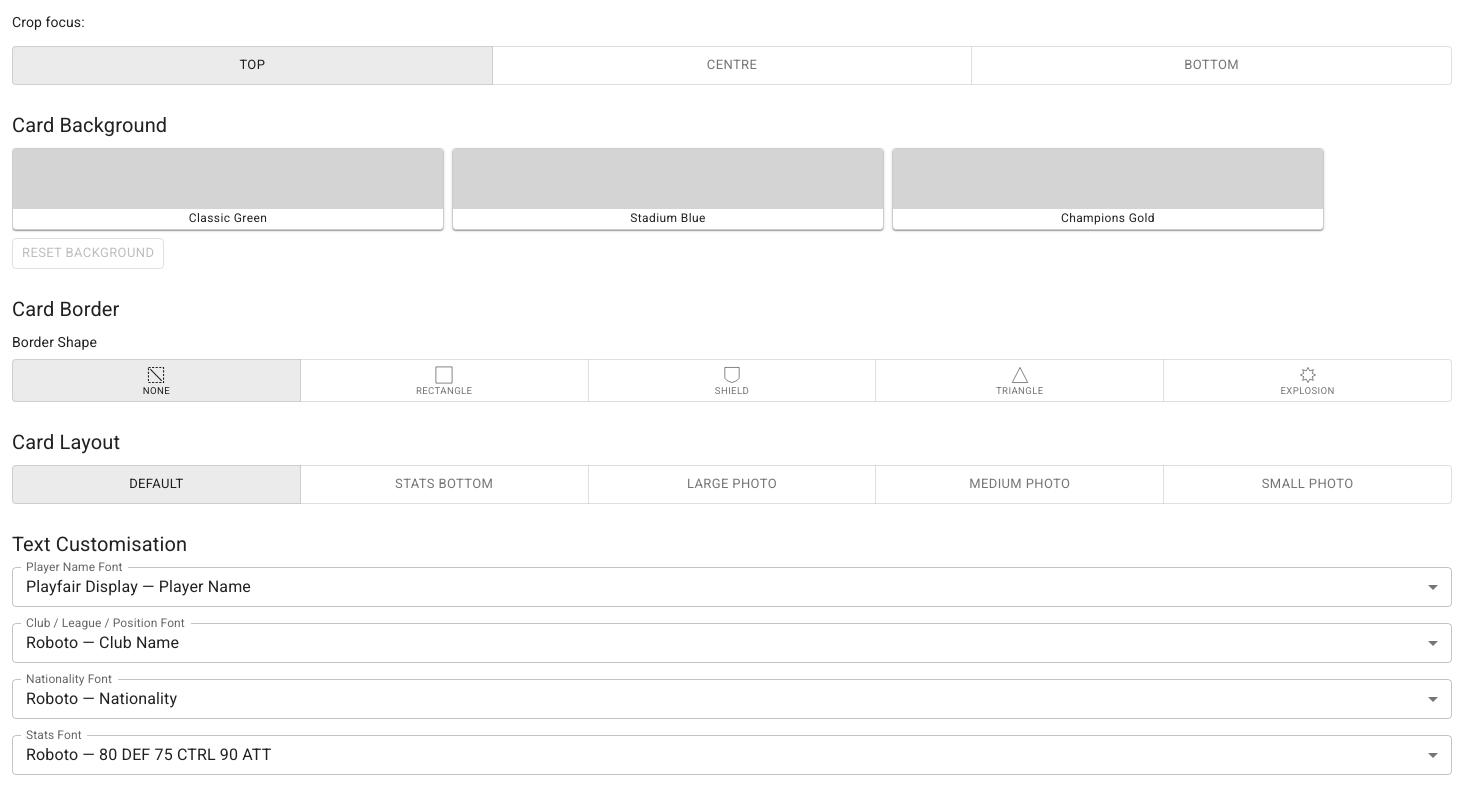
Test case: Card Border section › colour picker appears when a non-None shape is selected
This screenshot has width=1464, height=785.
(page scrolled)
Click the button with aria-label "Shield border".
click(732, 380)  # box [588, 359, 876, 402]
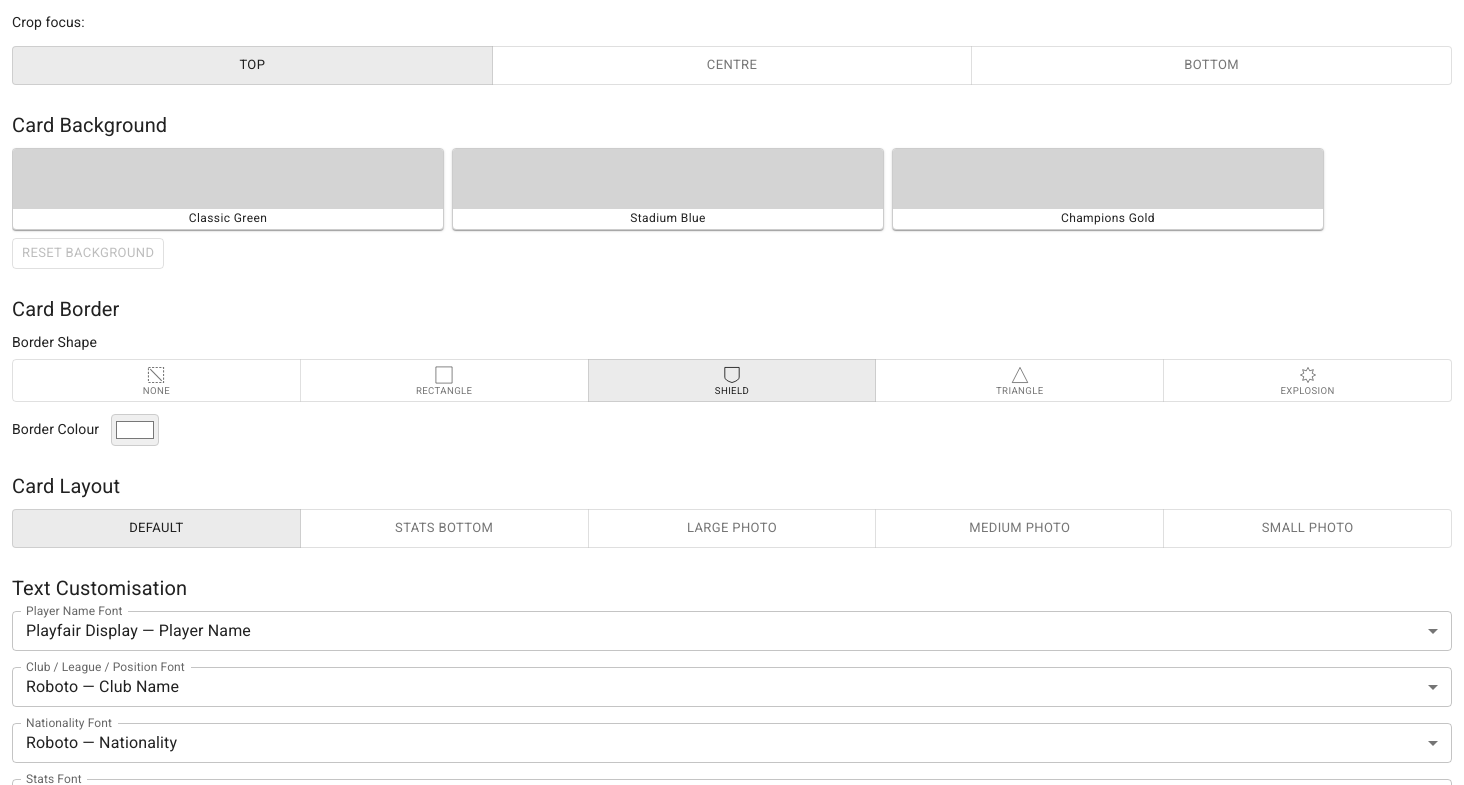
Check: the colour field with test id "card-border-color-picker" is shown, box [111, 414, 159, 446]
